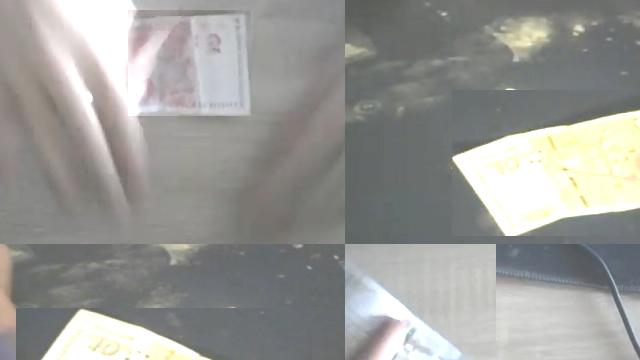10leva: (452, 107, 640, 236), (39, 308, 217, 360)
5leva: (128, 10, 251, 116)
